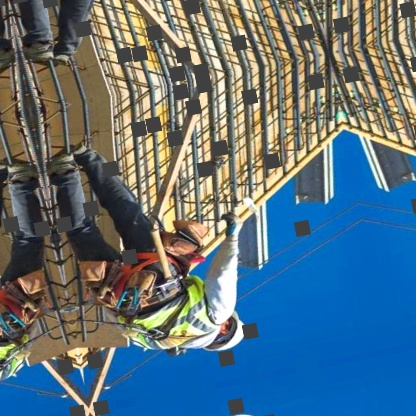vest: (107, 272, 232, 360)
white: (194, 309, 261, 359)
